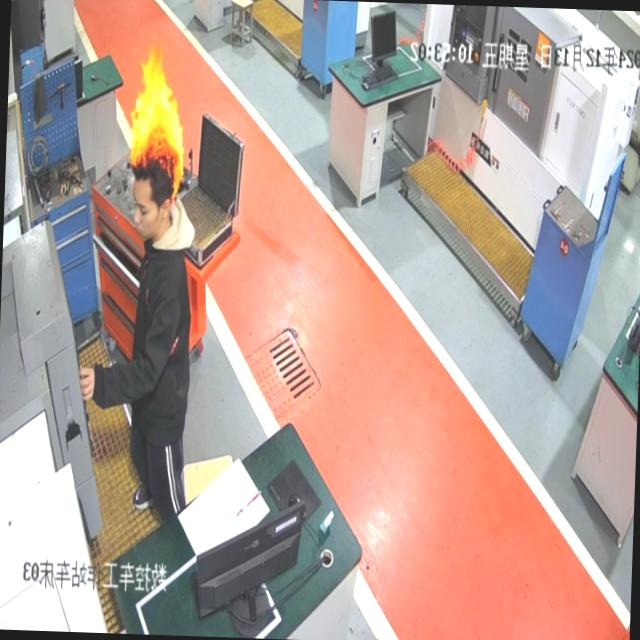fire: (114, 22, 196, 213)
